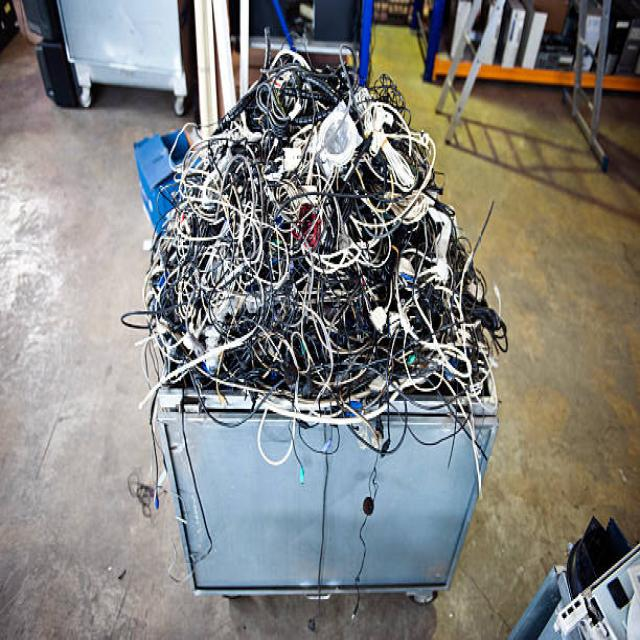trash: (133, 72, 506, 415)
